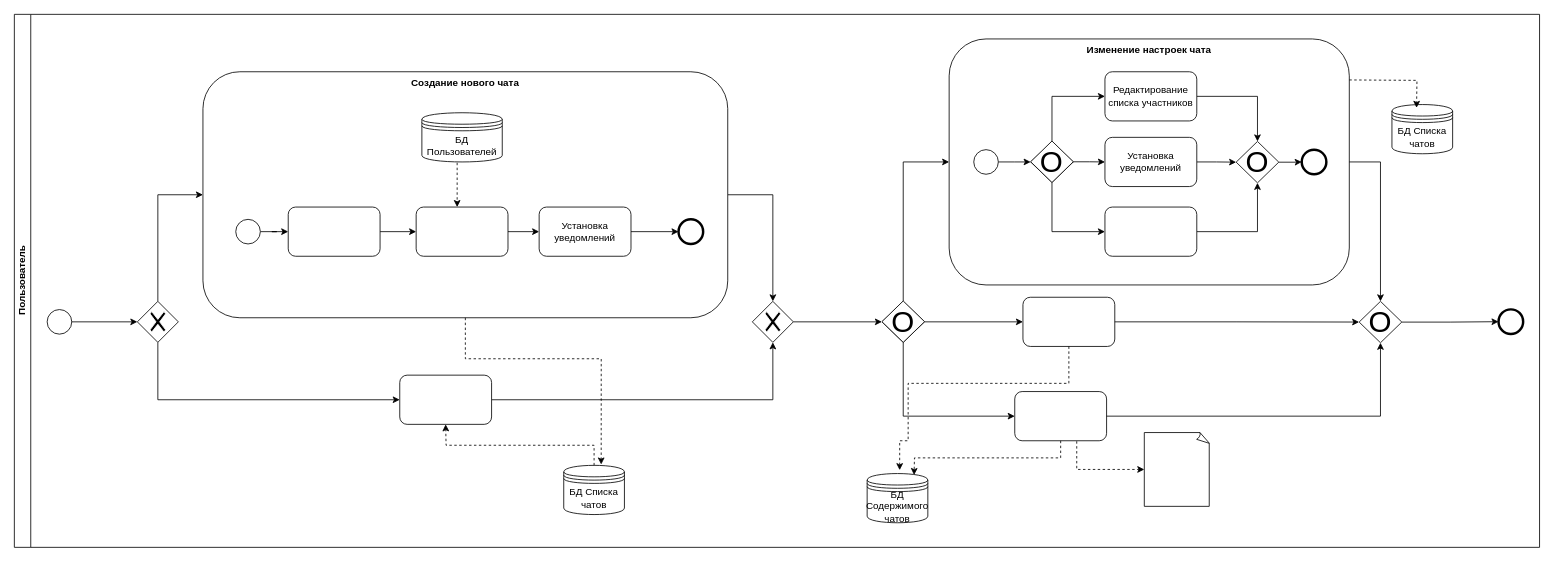
Some shapes in this 1554 by 562 pixel diagram are drawn without their labels. Here are the shapes that lost their labels. From the top down, the centre of each, then its label:
pixel 333 231: Ввод названия чата
pixel 461 231: Выбор участников
pixel 1150 231: Редактирование названия чата
pixel 1068 321: Написание текстового сообщения
pixel 445 399: Открытие существующего чата из списка
pixel 1060 416: Прикрепление файла
pixel 1176 469: Файл некоторых расширений
